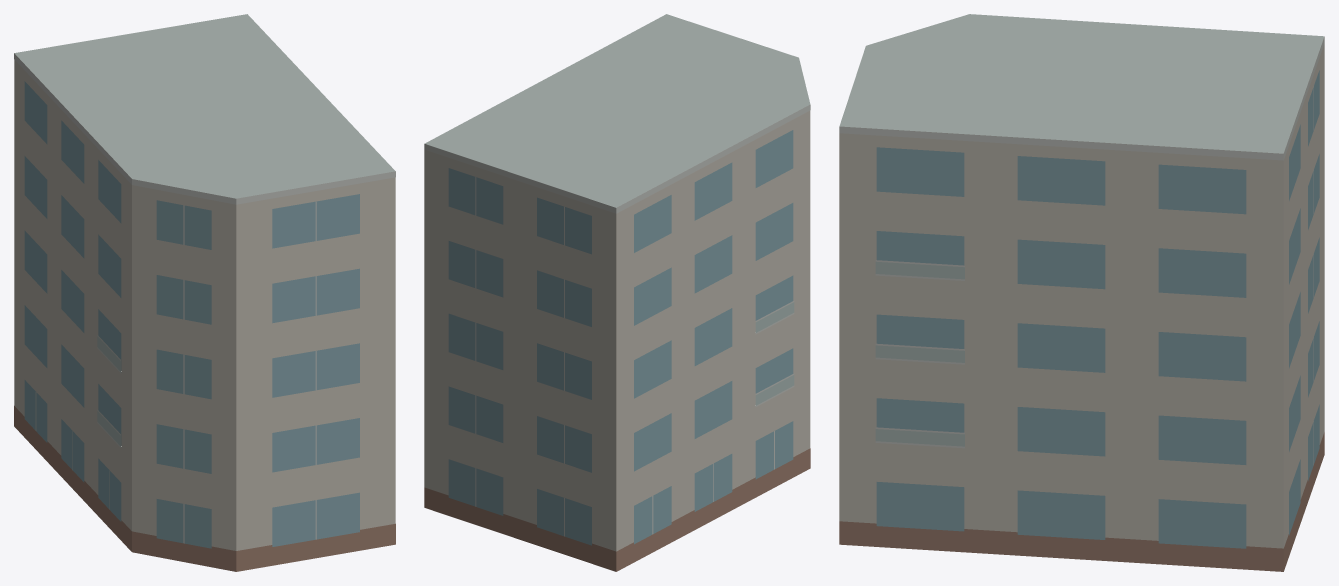
The model's file is survey-upis-33004846.glb.
The picture shows the model from 3 angles, left to right: view 1: azimuth 30°, elevation 25°; view 2: azimuth 150°, elevation 25°; view 3: azimuth 270°, elevation 25°; orthographic projection. The views are drawn at different scales.
Parts seen in each view (by area): view 1: survey-upis-33004846.tmp; view 2: survey-upis-33004846.tmp; view 3: survey-upis-33004846.tmp.
Part boxes in pixels (bbox=[...]): survey-upis-33004846.tmp: bbox=[14, 14, 395, 571]; survey-upis-33004846.tmp: bbox=[424, 14, 810, 571]; survey-upis-33004846.tmp: bbox=[839, 14, 1324, 571].
Size of the model in its own units: 10.8 by 15.06 by 15.85.
